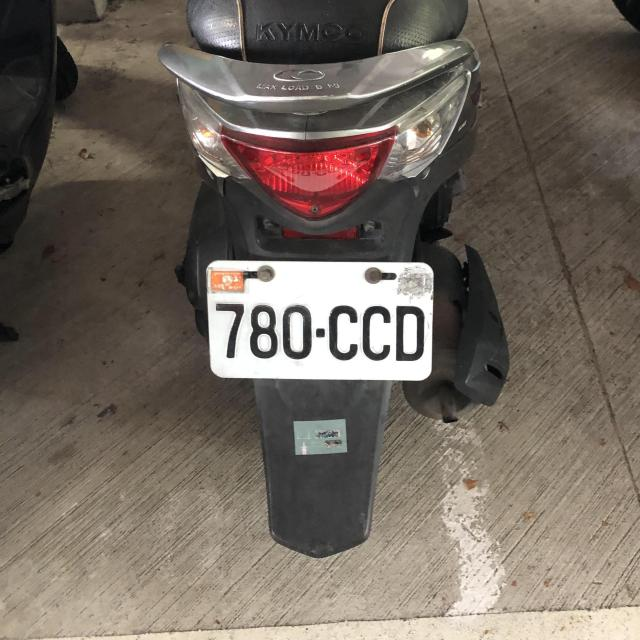W: (203, 256, 433, 383)
